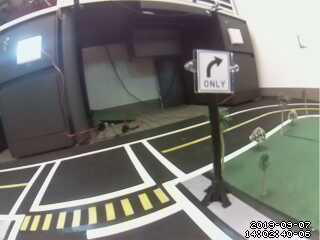Right_only_sign: (186, 45, 238, 98)
